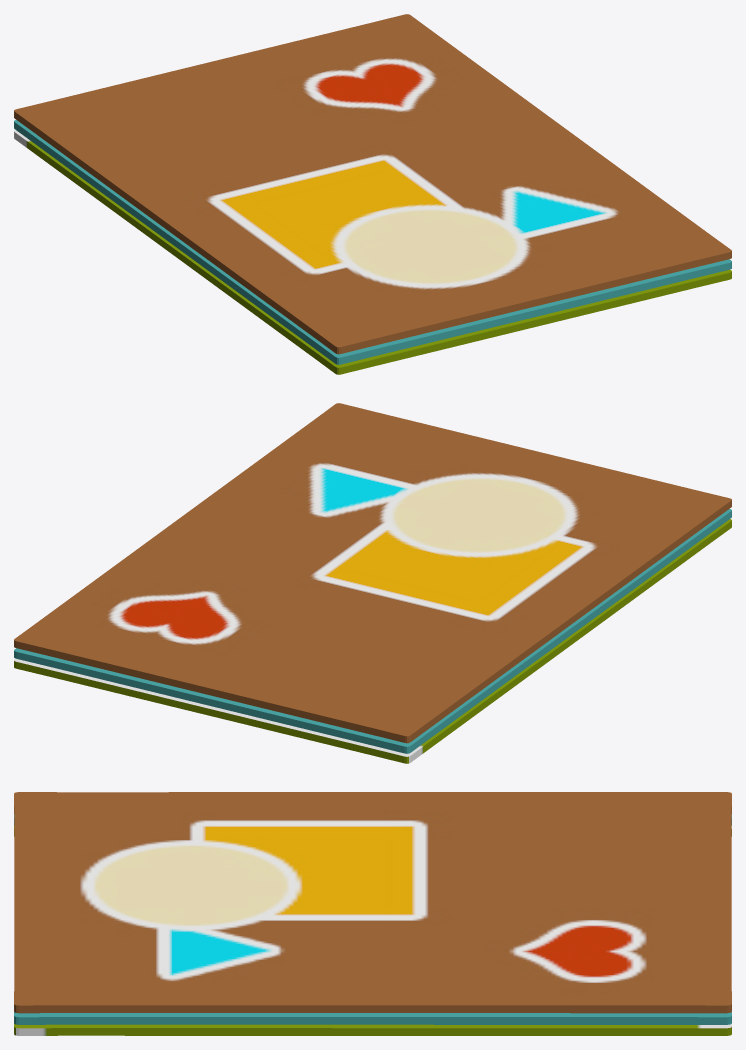
Rendered from book_01.FBX.
3 renders of one model, top to bottom at view 1: azimuth 30°, elevation 25°; view 2: azimuth 150°, elevation 25°; view 3: azimuth 270°, elevation 25°, orthographic. The views are drawn at different scales.
Visible parts, largest first — view 1: book_01; view 2: book_01; view 3: book_01.
Boxes of the visible parts, left/top/right/bottom form: book_01: left=14, top=14, right=731, bottom=374; book_01: left=14, top=403, right=731, bottom=763; book_01: left=14, top=792, right=731, bottom=1035.
Size of the model in its own units: 21.33 by 1.42 by 30.33.
